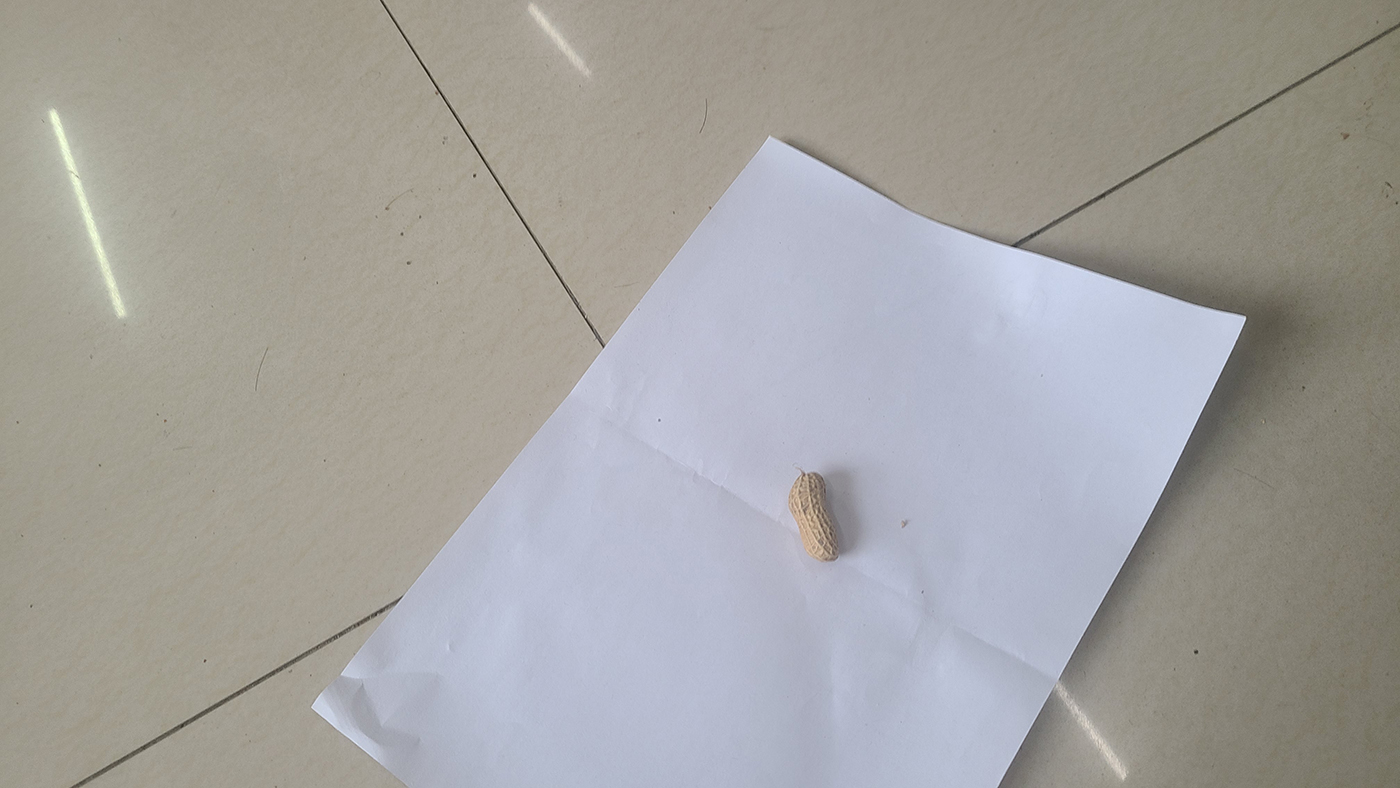h: (789, 472, 842, 561)
